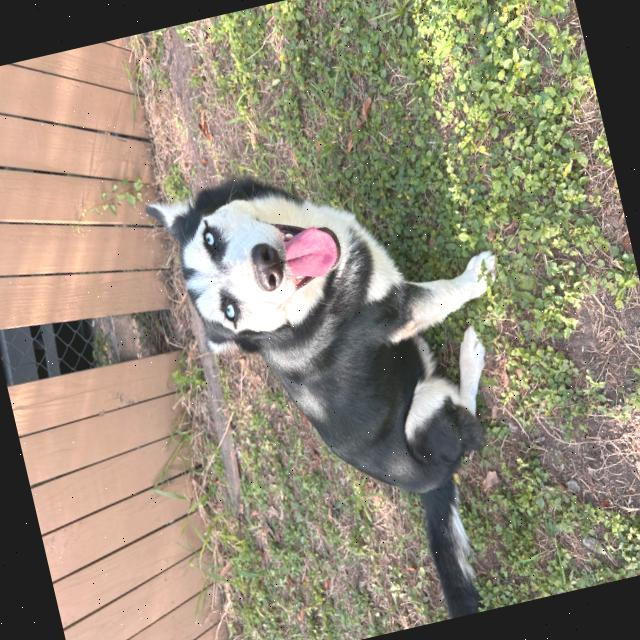siberian_husky_dog: (146, 146, 379, 382)
